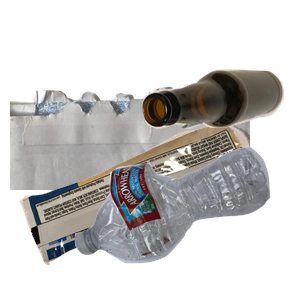glass: (140, 67, 300, 188)
paper: (10, 84, 250, 264)
plastic: (72, 144, 300, 300)
trash: (17, 123, 257, 300)
